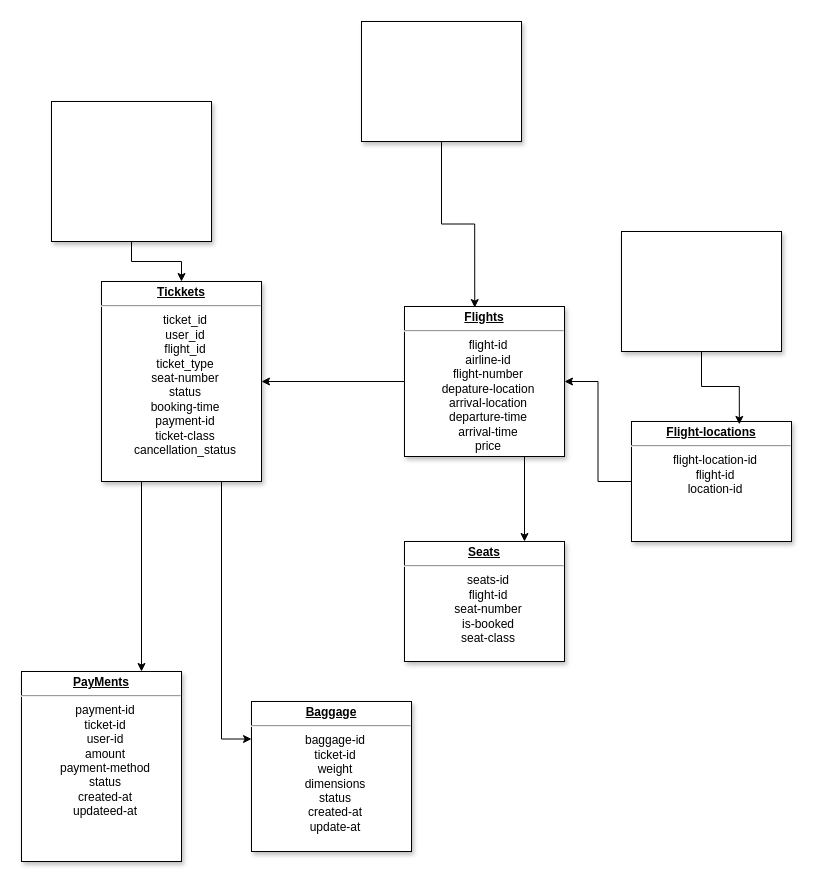
The diagram is 815 pixels wide and 886 high, and some of its shapes have lost their labels. The centre of each missing label's shape, as x and y in pixels:
A irline airline-id name code image: point (442, 82)
Location location-id name-id country-id image-url: point (702, 292)
Us er user_id username password email phone created-at updated-at: point (132, 172)
